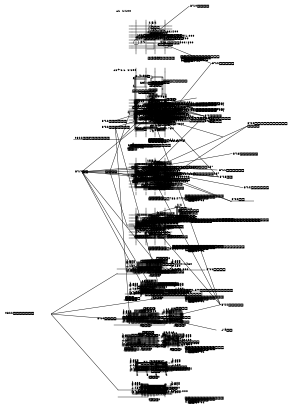corridor: (163, 224, 168, 242), (134, 218, 153, 221), (148, 233, 151, 241), (112, 84, 121, 86), (136, 293, 138, 301)
door: (126, 63, 127, 64), (127, 63, 128, 64), (126, 63, 126, 64), (128, 63, 128, 64), (183, 83, 183, 84), (183, 87, 183, 88)
room: (141, 179, 166, 189), (121, 311, 130, 336), (122, 300, 141, 311), (122, 288, 137, 297), (137, 288, 159, 294), (126, 183, 139, 193), (150, 236, 164, 245), (122, 222, 137, 230), (180, 81, 189, 94), (126, 236, 139, 245), (136, 169, 150, 176), (137, 221, 149, 227), (137, 169, 149, 175), (150, 231, 164, 236), (150, 300, 164, 305), (138, 365, 149, 371), (121, 227, 134, 232), (181, 189, 186, 201), (126, 84, 140, 88), (127, 82, 139, 86), (119, 288, 124, 297), (119, 369, 126, 375), (162, 366, 170, 371), (141, 181, 146, 189), (141, 135, 154, 138), (141, 384, 148, 389), (152, 225, 159, 230), (131, 239, 142, 242), (119, 226, 123, 234), (162, 304, 167, 310), (141, 184, 148, 188), (162, 300, 167, 305), (159, 225, 164, 230), (141, 240, 146, 245), (150, 293, 156, 297), (156, 294, 164, 297), (129, 297, 137, 300), (130, 134, 138, 137), (148, 233, 151, 241), (140, 307, 147, 310), (150, 297, 157, 300), (157, 297, 164, 300), (143, 229, 153, 231), (143, 378, 148, 382), (132, 305, 142, 307), (111, 299, 120, 301), (110, 180, 119, 182), (140, 304, 146, 307), (122, 297, 128, 300), (152, 242, 161, 244), (112, 84, 121, 86), (136, 293, 138, 301), (163, 299, 167, 303), (152, 236, 160, 238), (144, 329, 147, 334), (163, 291, 167, 294), (148, 297, 151, 301), (119, 232, 123, 235), (140, 305, 146, 307), (145, 245, 151, 247), (154, 186, 165, 187), (122, 228, 127, 230), (128, 228, 133, 230), (124, 297, 129, 299), (163, 240, 168, 242), (163, 232, 168, 234), (110, 233, 119, 234), (152, 139, 155, 142), (134, 82, 137, 85), (129, 82, 132, 85), (145, 82, 147, 86), (142, 82, 144, 86), (120, 62, 122, 66), (152, 139, 154, 143), (143, 139, 145, 143), (136, 139, 138, 143), (129, 115, 131, 119), (136, 115, 138, 119), (138, 115, 140, 119), (145, 115, 147, 119), (149, 290, 153, 292), (162, 291, 166, 293), (141, 294, 145, 296), (145, 294, 149, 296), (120, 292, 124, 294), (119, 240, 123, 242), (142, 87, 146, 89), (127, 82, 129, 86), (153, 290, 160, 291), (129, 88, 131, 91), (142, 238, 145, 240), (141, 139, 143, 142), (133, 116, 136, 118), (149, 236, 151, 239), (140, 185, 143, 187), (132, 82, 134, 85), (150, 82, 151, 86), (119, 82, 120, 86), (115, 82, 116, 86), (122, 82, 123, 86), (147, 57, 148, 61), (141, 57, 142, 61), (120, 59, 122, 61), (115, 62, 116, 66), (141, 62, 142, 66), (147, 62, 148, 66), (157, 139, 158, 143), (155, 139, 156, 143), (150, 139, 151, 143), (148, 139, 149, 143), (146, 139, 147, 143), (141, 139, 142, 143), (139, 139, 140, 143), (132, 115, 133, 119), (134, 115, 135, 119), (141, 115, 142, 119), (143, 115, 144, 119), (148, 115, 149, 119), (150, 115, 151, 119), (163, 300, 165, 302), (145, 116, 147, 118), (145, 238, 147, 240), (148, 234, 150, 236), (132, 88, 133, 91), (135, 88, 136, 91), (123, 376, 125, 377), (157, 376, 159, 377), (140, 89, 141, 91), (115, 59, 116, 61), (140, 310, 142, 311)
staircase: (121, 312, 165, 336), (126, 183, 139, 193), (126, 236, 139, 245), (134, 218, 153, 221), (165, 224, 166, 242), (145, 245, 151, 247), (141, 308, 145, 311), (170, 64, 174, 67), (120, 228, 122, 234), (141, 307, 145, 309), (175, 62, 179, 64), (160, 135, 167, 136), (121, 111, 128, 112), (150, 134, 156, 135), (127, 134, 130, 136), (153, 134, 156, 136), (186, 192, 188, 195), (186, 197, 188, 199), (127, 134, 130, 135), (154, 110, 157, 111), (129, 58, 131, 59), (154, 111, 156, 112), (123, 8, 125, 9)
wall: (141, 99, 244, 306), (141, 99, 244, 240), (45, 117, 154, 237), (93, 113, 158, 283), (128, 228, 241, 306), (122, 231, 283, 285), (45, 237, 149, 299), (93, 83, 114, 283), (148, 206, 260, 239), (167, 293, 231, 350), (162, 221, 277, 237), (85, 238, 114, 299), (123, 292, 221, 309), (148, 380, 199, 409), (85, 181, 110, 238), (164, 274, 247, 291), (144, 73, 238, 88), (161, 243, 261, 256), (166, 350, 231, 369), (144, 232, 241, 240), (167, 295, 221, 307), (45, 237, 164, 242), (186, 89, 244, 99), (145, 306, 209, 314), (45, 233, 164, 237), (167, 300, 216, 308), (141, 193, 182, 201), (141, 181, 182, 189), (144, 239, 239, 242), (90, 290, 124, 297), (93, 283, 120, 289), (151, 289, 221, 291), (120, 29, 173, 31), (85, 234, 111, 238), (163, 224, 168, 242), (119, 6, 175, 7), (162, 55, 190, 57), (127, 82, 139, 86), (149, 235, 167, 237), (153, 280, 164, 283), (122, 280, 130, 283), (165, 81, 189, 82), (155, 113, 172, 114), (149, 305, 165, 306), (149, 297, 165, 298), (145, 185, 150, 188), (170, 63, 174, 66), (134, 82, 137, 85), (129, 82, 132, 85), (124, 280, 133, 281), (153, 280, 162, 281), (151, 224, 160, 225), (176, 61, 179, 64), (171, 82, 172, 91), (127, 82, 129, 86), (137, 82, 139, 86), (130, 282, 134, 284), (153, 282, 157, 284), (121, 221, 122, 229), (152, 286, 154, 290), (94, 403, 97, 405), (132, 82, 134, 85), (142, 301, 145, 303), (124, 282, 130, 283), (163, 115, 166, 117), (145, 185, 147, 188), (157, 282, 162, 283), (125, 60, 129, 61), (134, 57, 136, 59), (140, 301, 141, 305), (90, 342, 93, 343), (134, 85, 137, 86), (129, 85, 132, 86), (122, 139, 125, 140), (133, 281, 134, 284), (152, 281, 153, 284), (142, 235, 145, 236), (140, 235, 141, 238), (138, 186, 141, 187), (123, 376, 125, 377), (157, 376, 159, 377), (132, 85, 134, 86), (135, 57, 136, 59), (134, 57, 135, 59), (130, 12, 132, 13), (164, 14, 165, 16), (140, 239, 141, 241), (164, 233, 166, 234), (123, 7, 125, 8), (145, 187, 147, 188), (123, 376, 124, 377), (124, 376, 125, 377), (157, 376, 158, 377), (158, 376, 159, 377), (106, 104, 107, 105), (127, 298, 128, 299), (150, 307, 151, 308), (150, 306, 151, 307), (150, 301, 151, 302), (150, 300, 151, 301), (140, 268, 141, 269), (165, 40, 166, 40), (105, 52, 106, 52), (128, 60, 129, 60), (125, 60, 126, 60), (127, 60, 128, 60), (126, 60, 127, 60), (126, 298, 126, 299), (159, 295, 159, 296), (161, 295, 161, 296), (123, 222, 123, 228), (122, 40, 123, 40), (131, 13, 131, 13), (164, 11, 164, 13), (140, 306, 141, 306), (183, 66, 184, 66), (183, 57, 183, 58), (140, 269, 141, 269), (140, 209, 141, 209), (140, 157, 141, 157), (166, 287, 166, 287), (110, 85, 115, 85), (110, 85, 120, 85)
window: (121, 168, 165, 193), (122, 221, 164, 245), (122, 288, 164, 311), (122, 300, 141, 311), (122, 234, 141, 245), (122, 182, 141, 193), (148, 241, 164, 245), (181, 189, 186, 201), (141, 181, 146, 189), (181, 195, 186, 201), (141, 191, 146, 193), (157, 245, 165, 246), (142, 87, 144, 89), (127, 62, 129, 64), (162, 12, 164, 14), (145, 8, 147, 10), (145, 12, 147, 14), (164, 62, 166, 64), (170, 62, 172, 64), (172, 83, 174, 85), (140, 87, 141, 89), (129, 87, 131, 88), (142, 87, 144, 88), (142, 88, 144, 89), (126, 62, 127, 64), (155, 112, 157, 113), (162, 8, 163, 10), (155, 12, 156, 14), (153, 12, 154, 14), (155, 8, 156, 10), (153, 8, 154, 10), (133, 8, 134, 10), (156, 12, 157, 14), (156, 8, 157, 10), (164, 59, 166, 60), (166, 62, 167, 64), (170, 62, 172, 63), (170, 63, 172, 64), (169, 62, 170, 64), (181, 62, 182, 64), (172, 87, 174, 88), (115, 83, 116, 84), (119, 83, 120, 84), (140, 87, 141, 88), (140, 88, 141, 89), (132, 87, 133, 88), (135, 87, 136, 88), (115, 87, 116, 88), (119, 87, 120, 88), (127, 62, 128, 63), (126, 62, 127, 63), (159, 112, 160, 113), (148, 116, 149, 117), (162, 13, 163, 14), (162, 12, 163, 13), (163, 13, 164, 14), (163, 12, 164, 13), (162, 9, 163, 10), (162, 8, 163, 9), (155, 13, 156, 14), (155, 12, 156, 13), (153, 13, 154, 14), (153, 12, 154, 13), (155, 9, 156, 10), (155, 8, 156, 9), (153, 9, 154, 10), (153, 8, 154, 9), (145, 9, 146, 10), (145, 8, 146, 9), (146, 9, 147, 10), (146, 8, 147, 9), (145, 13, 146, 14), (145, 12, 146, 13), (146, 13, 147, 14), (146, 12, 147, 13), (133, 9, 134, 10), (133, 8, 134, 9), (156, 13, 157, 14), (156, 12, 157, 13), (156, 9, 157, 10), (156, 8, 157, 9), (166, 59, 167, 60), (165, 59, 166, 60), (166, 62, 167, 63), (166, 63, 167, 64), (165, 62, 166, 63), (165, 63, 166, 64), (169, 62, 170, 63), (169, 63, 170, 64), (181, 63, 182, 64), (181, 62, 182, 63), (145, 380, 146, 381), (115, 84, 116, 85), (119, 84, 120, 85), (157, 312, 165, 312), (163, 9, 163, 10), (163, 8, 163, 9), (133, 9, 133, 10), (133, 8, 133, 9), (166, 60, 167, 60), (165, 60, 166, 60), (138, 85, 139, 85), (139, 85, 139, 85)
